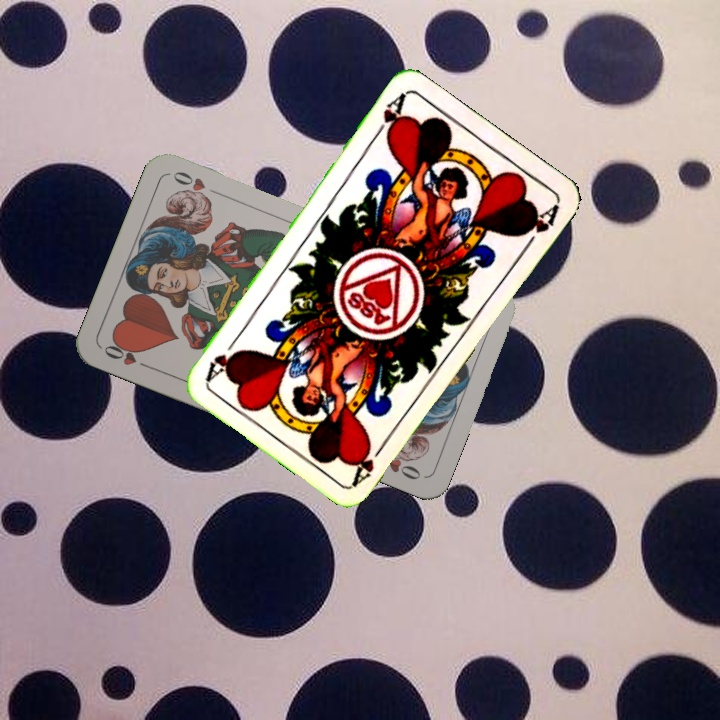HA: (348, 434, 391, 487), (368, 89, 408, 142)
HO: (99, 337, 155, 373)
